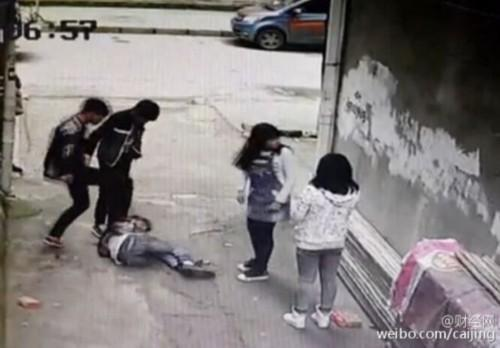Fall-Detected: (99, 213, 218, 286)
